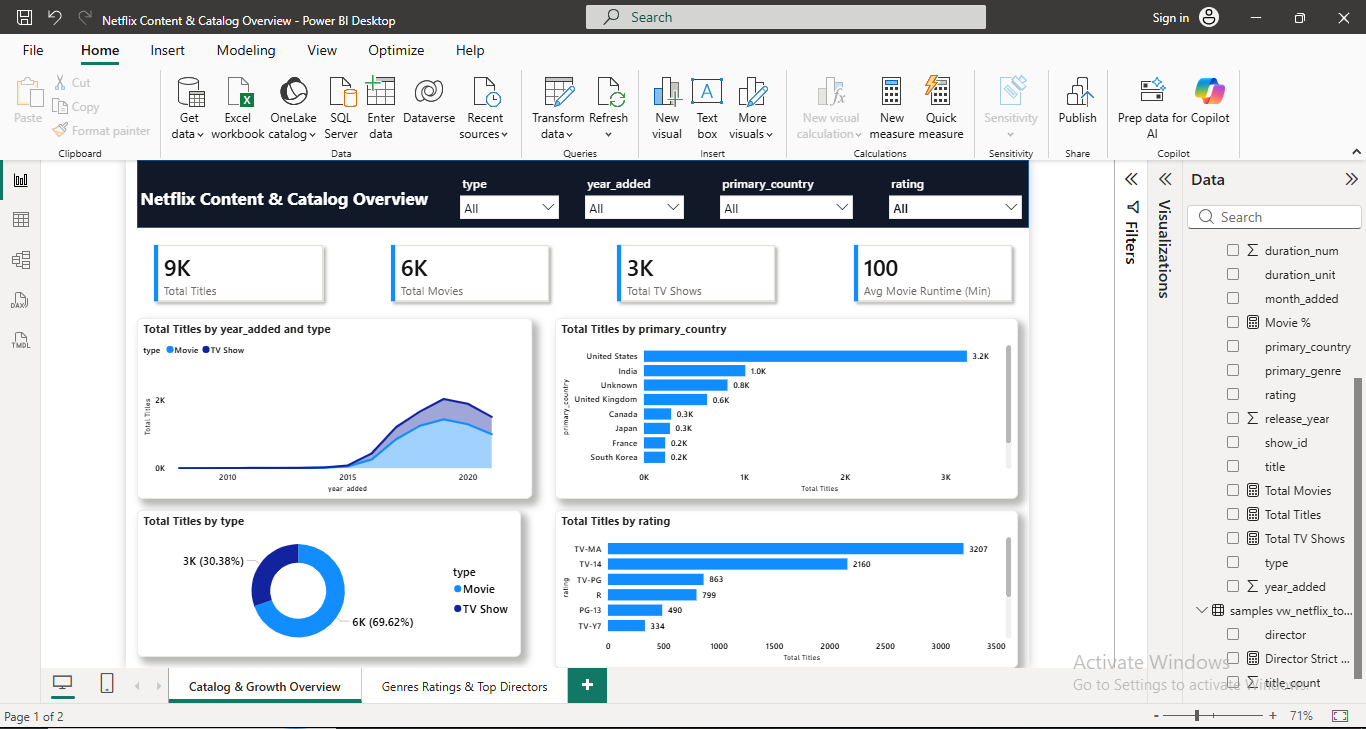

Layout of this report page (visuals, bound fields, positions):
{"tool":"powerbi","page":{"name":"Catalog & Growth Overview","canvas":[1280,720],"ordinal":0},"visuals":[{"type":"shape","box":[16,0,1264,96],"z":0},{"type":"textbox","box":[16,32,1264,64],"z":1000},{"type":"slicer","fields":{"Values":["samples vw_netflix_master.type"]},"box":[464,16,160,80],"z":2000},{"type":"slicer","fields":{"Values":["samples vw_netflix_master.year_added"]},"box":[640,16,160,80],"z":3000},{"type":"slicer","fields":{"Values":["samples vw_netflix_master.primary_country"]},"box":[832,16,208,80],"z":4000},{"type":"slicer","fields":{"Values":["samples vw_netflix_master.rating"]},"box":[1072,16,208,80],"z":5000},{"type":"cardVisual","fields":{"Data":["samples vw_netflix_master.Total Titles"]},"box":[16,96,288,128],"z":6000},{"type":"cardVisual","fields":{"Data":["samples vw_netflix_master.Total Movies"]},"box":[352,96,272,128],"z":7000},{"type":"cardVisual","fields":{"Data":["samples vw_netflix_master.Total TV Shows"]},"box":[672,96,272,128],"z":8000},{"type":"cardVisual","fields":{"Data":["samples vw_netflix_master.Avg Movie Runtime (Min)"]},"box":[1008,96,272,128],"z":9000},{"type":"stackedAreaChart","fields":{"Category":["samples vw_netflix_master.year_added"],"Y":["samples vw_netflix_master.Total Titles"],"Series":["samples vw_netflix_master.type"]},"box":[16,224,560,256],"z":10000},{"type":"clusteredBarChart","fields":{"Category":["samples vw_netflix_master.primary_country"],"Y":["samples vw_netflix_master.Total Titles"]},"box":[608,224,656,256],"z":11000},{"type":"donutChart","fields":{"Category":["samples vw_netflix_master.type"],"Y":["samples vw_netflix_master.Total Titles"]},"box":[16,496,544,208],"z":12000},{"type":"clusteredBarChart","fields":{"Category":["samples vw_netflix_master.rating"],"Y":["samples vw_netflix_master.Total Titles"]},"box":[608,496,656,224],"z":13000}]}

Visuals, with their boxes on the page's 1280x720 design canvas (x1, y1, x2, y2). These are canvas units, not pixel positions in the 1366x729 screenshot, which may show the page scaled, cropped or inside an application window:
shape: region(16, 0, 1280, 96)
textbox: region(16, 32, 1280, 96)
slicer - samples vw_netflix_master.type: region(464, 16, 624, 96)
slicer - samples vw_netflix_master.year_added: region(640, 16, 800, 96)
slicer - samples vw_netflix_master.primary_country: region(832, 16, 1040, 96)
slicer - samples vw_netflix_master.rating: region(1072, 16, 1280, 96)
cardVisual - samples vw_netflix_master.Total Titles: region(16, 96, 304, 224)
cardVisual - samples vw_netflix_master.Total Movies: region(352, 96, 624, 224)
cardVisual - samples vw_netflix_master.Total TV Shows: region(672, 96, 944, 224)
cardVisual - samples vw_netflix_master.Avg Movie Runtime (Min): region(1008, 96, 1280, 224)
stackedAreaChart - samples vw_netflix_master.year_added x samples vw_netflix_master.Total Titles: region(16, 224, 576, 480)
clusteredBarChart - samples vw_netflix_master.primary_country x samples vw_netflix_master.Total Titles: region(608, 224, 1264, 480)
donutChart - samples vw_netflix_master.type x samples vw_netflix_master.Total Titles: region(16, 496, 560, 704)
clusteredBarChart - samples vw_netflix_master.rating x samples vw_netflix_master.Total Titles: region(608, 496, 1264, 720)
